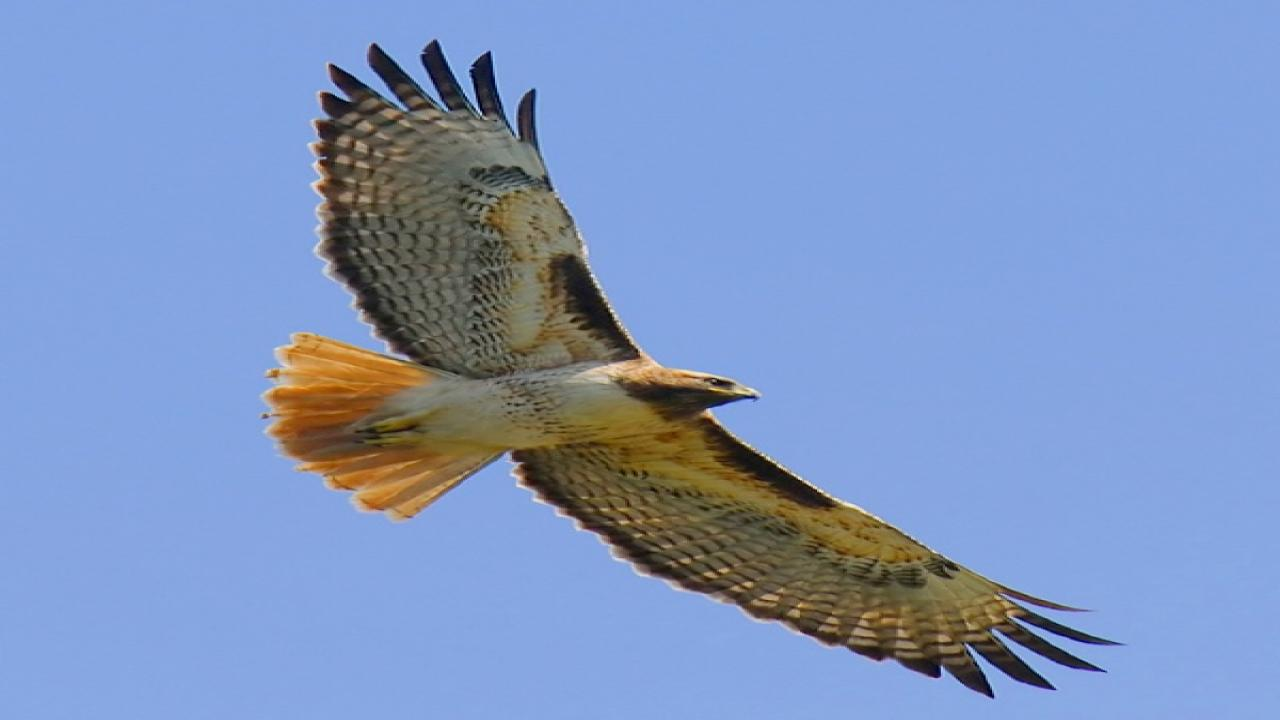Bird: (239, 27, 1134, 705)
